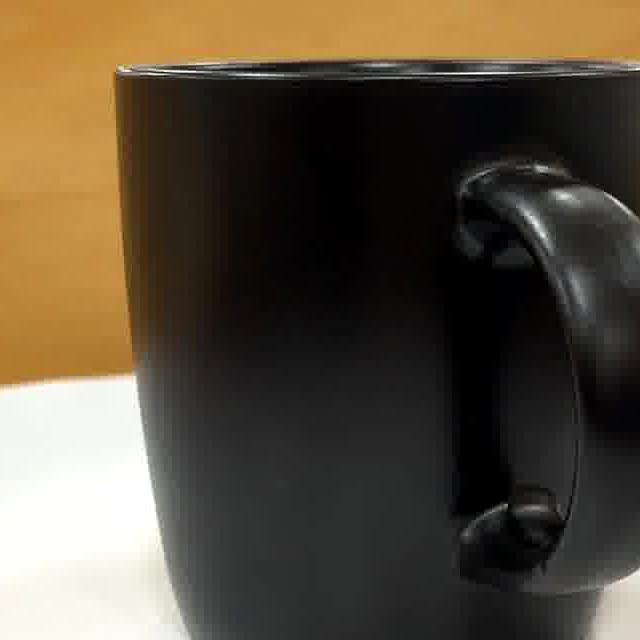cup: (122, 62, 640, 640)
